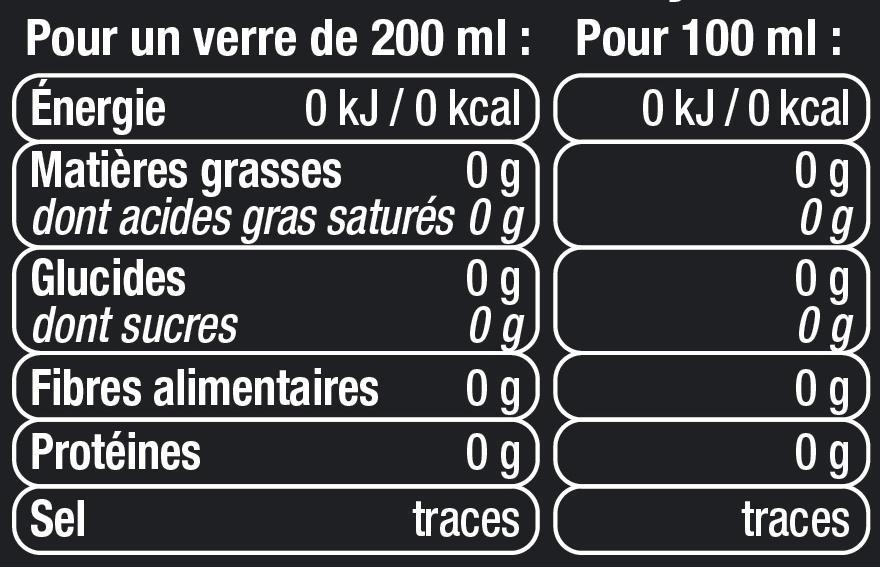column: (9, 28, 538, 561), (548, 14, 878, 547)
line: (29, 251, 856, 355), (30, 153, 848, 245), (28, 74, 843, 141), (35, 427, 856, 489), (32, 493, 859, 552), (28, 366, 854, 422), (13, 11, 845, 60)
table: (7, 9, 880, 562)
